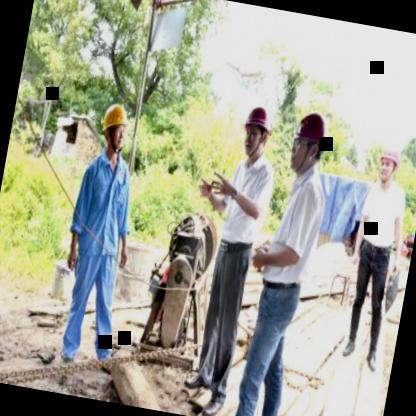helmet: (286, 108, 332, 180), (235, 98, 276, 164), (97, 100, 131, 156), (374, 136, 405, 193)
